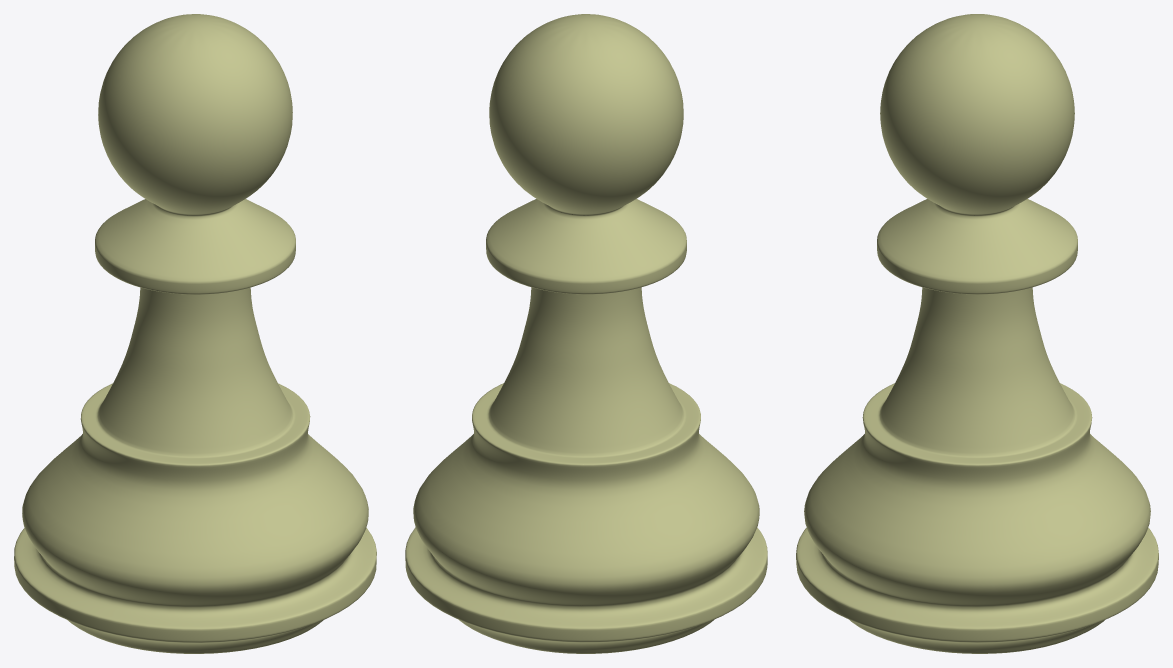
Rendered from chess_pawn.glb.
3 views of the same model, side by side, from view 1: azimuth 30°, elevation 25°; view 2: azimuth 150°, elevation 25°; view 3: azimuth 270°, elevation 25° (orthographic).
Parts seen in each view (by area): view 1: Sphere; view 2: Sphere; view 3: Sphere.
Part boxes in pixels (x1,y1,x2,y2): Sphere: (14,14,376,653); Sphere: (405,14,767,653); Sphere: (796,14,1158,653).
Size of the model in its own units: 0.9344 by 1.63 by 0.9344.
